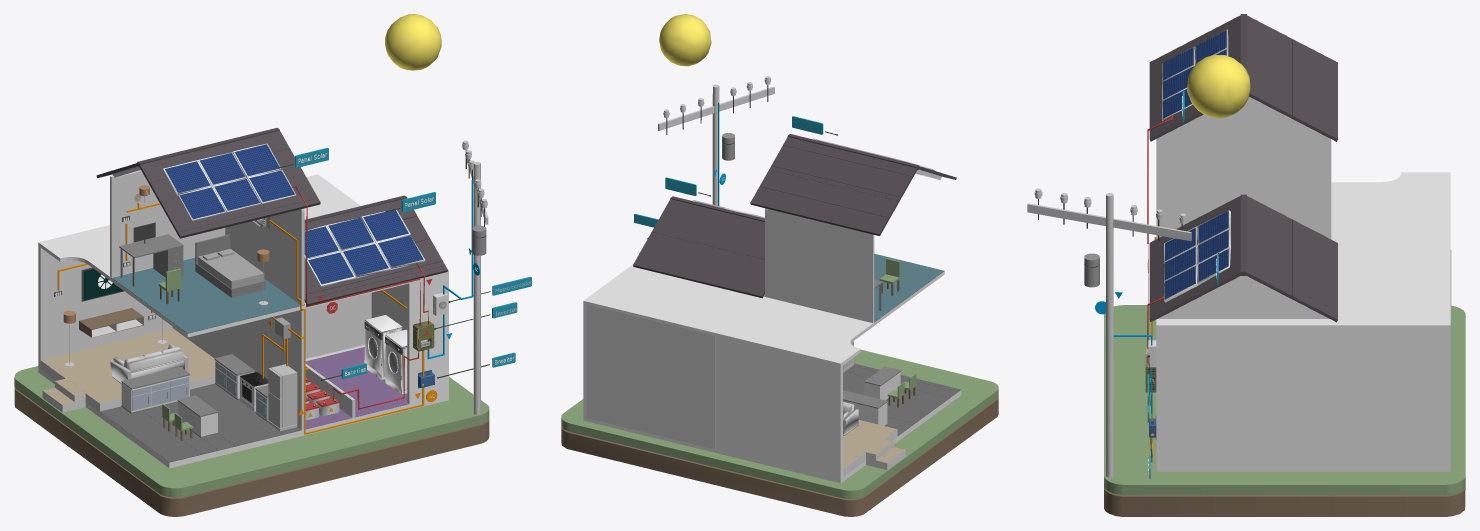
The model's file is solar_house_ligero.glb.
3 views of the same model, side by side, from view 1: azimuth 30°, elevation 25°; view 2: azimuth 150°, elevation 25°; view 3: azimuth 270°, elevation 25° (orthographic). The views are drawn at different scales.
Visible parts, largest first — view 1: Cube_1_4_2, Cube_13_4_1, Cube_42_4_1, Cube_1_3_2_2.001, Cube_1_4_1, Cube_9_5_1, Cube_11_8_1, Cube_2_8_1, Cube_7_2_2, Cube_14_11_1, Cube_13_8_1, Cube_2_9_1 (+12 smaller); view 2: Cube_1_4_1, Cube_1_4_2, Cube_42_4_1, Cube_13_4_1, Cube_9_5_1, Cube_11_8_1, Sphere_8_1, Cube_2_8_1, Cube_1_1, Cube_7_2_2, Cube_13_7_1, Cube_6_1 (+2 smaller); view 3: Cube_1_4_1, Cube_42_4_1, Cube_13_4_1, Cube_9_5_1, Cube_1_3_2_2.001, Cube_1_1, Sphere_8_1, Cube_2_9_1, Cylinder_7_2_1.
Boxes of the visible parts, box(x1,y1,x2,y2) form: Cube_1_4_2: box(40, 166, 409, 460); Cube_13_4_1: box(14, 268, 489, 497); Cube_42_4_1: box(96, 127, 447, 305); Cube_1_3_2_2.001: box(165, 144, 423, 284); Cube_1_4_1: box(38, 174, 448, 468); Cube_9_5_1: box(14, 308, 489, 516); Cube_11_8_1: box(100, 383, 301, 462); Cube_2_8_1: box(112, 257, 304, 333); Cube_7_2_2: box(41, 193, 215, 404); Cube_14_11_1: box(119, 234, 268, 437); Cube_13_8_1: box(110, 343, 297, 431); Cube_2_9_1: box(55, 143, 447, 420); Cube_1_4_1: box(583, 264, 961, 483); Cube_1_4_2: box(586, 169, 941, 476); Cube_42_4_1: box(633, 134, 956, 298); Cube_13_4_1: box(561, 258, 998, 498); Cube_9_5_1: box(561, 398, 998, 516); Cube_11_8_1: box(843, 363, 960, 435); Sphere_8_1: box(659, 14, 711, 66); Cube_2_8_1: box(874, 253, 944, 322); Cube_1_1: box(658, 76, 774, 205); Cube_7_2_2: box(843, 420, 904, 468); Cube_13_7_1: box(843, 372, 900, 425); Cube_6_1: box(634, 116, 823, 238); Cube_1_4_1: box(1156, 97, 1450, 471); Cube_42_4_1: box(1149, 14, 1337, 322); Cube_13_4_1: box(1104, 305, 1465, 494); Cube_9_5_1: box(1104, 487, 1465, 516); Cube_1_3_2_2.001: box(1163, 30, 1228, 299); Cube_1_1: box(1027, 188, 1191, 477); Sphere_8_1: box(1187, 55, 1250, 118); Cube_2_9_1: box(1148, 29, 1230, 435); Cylinder_7_2_1: box(1084, 253, 1099, 287).
Bounding box in the file's own units: 348 × 343 × 307.
Materials: 71 (5 with a texture image).
